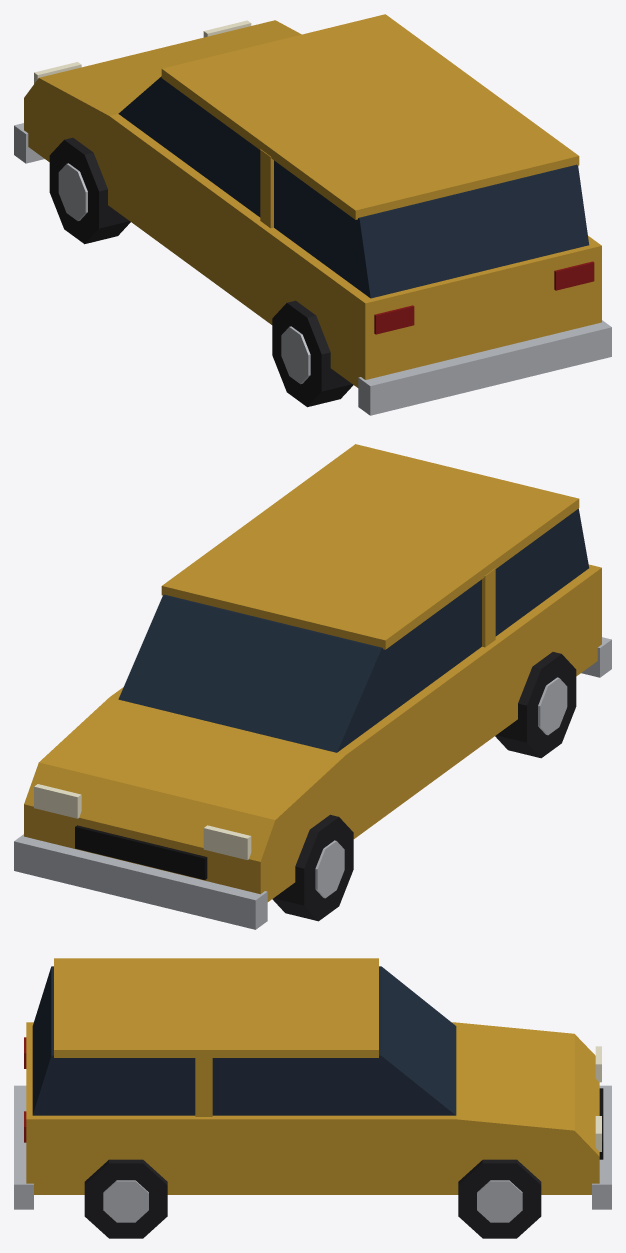
Rendered from CarWagonMustard.obj.
3 views of the same model, one above another, from view 1: azimuth 30°, elevation 25°; view 2: azimuth 150°, elevation 25°; view 3: azimuth 270°, elevation 25° (orthographic). The views are drawn at different scales.
Parts seen in each view (by area): view 1: CarWagonMustard; view 2: CarWagonMustard; view 3: CarWagonMustard.
Boxes of the visible parts, x1,y1,x2,y2 form: CarWagonMustard: (14, 14, 611, 415); CarWagonMustard: (14, 444, 611, 929); CarWagonMustard: (14, 958, 611, 1238).
Size of the model in its own units: 2.01 by 1.61 by 4.8.
1 material, 1 textured.
